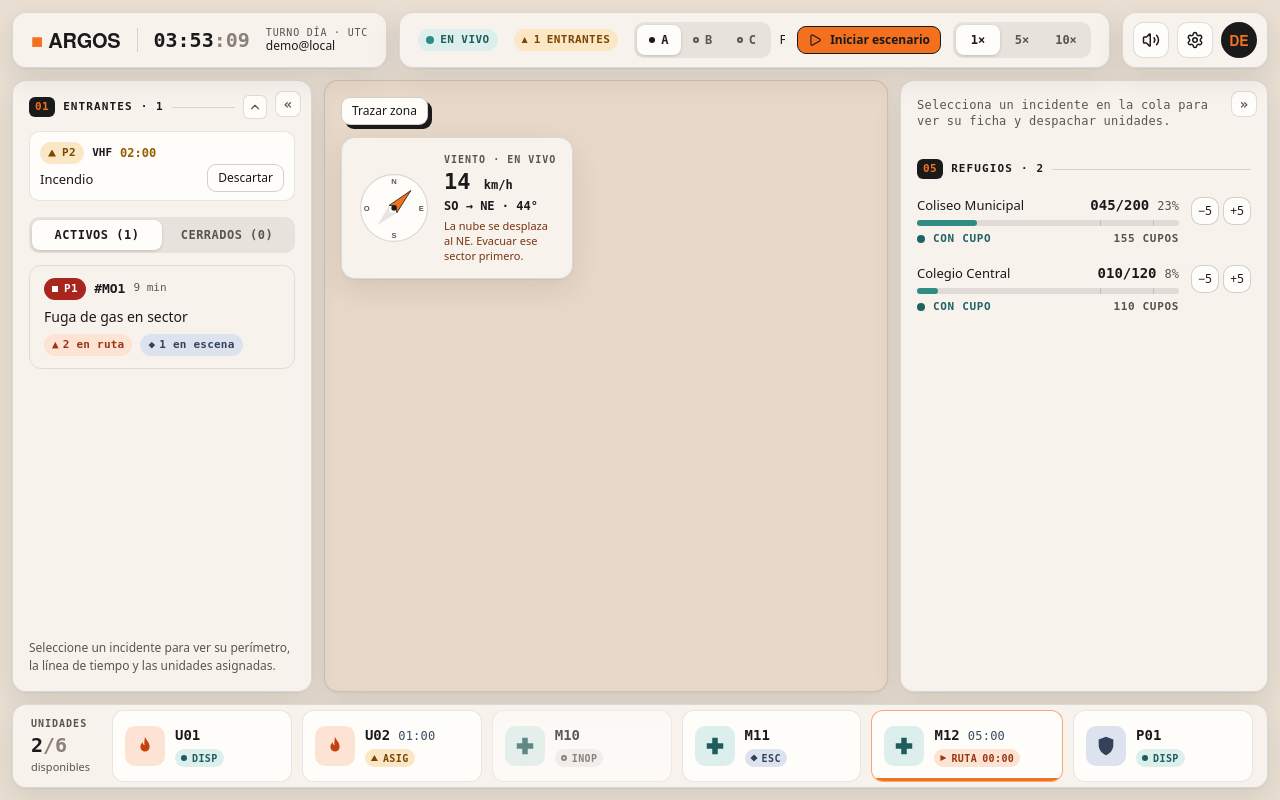
Test case: App: tutorial guiado › desde la hoja de atajos (F1) se puede lanzar el tutorial
Expected: the header named "Barra de estado" is shown, [12, 12, 1268, 68]
Press F1
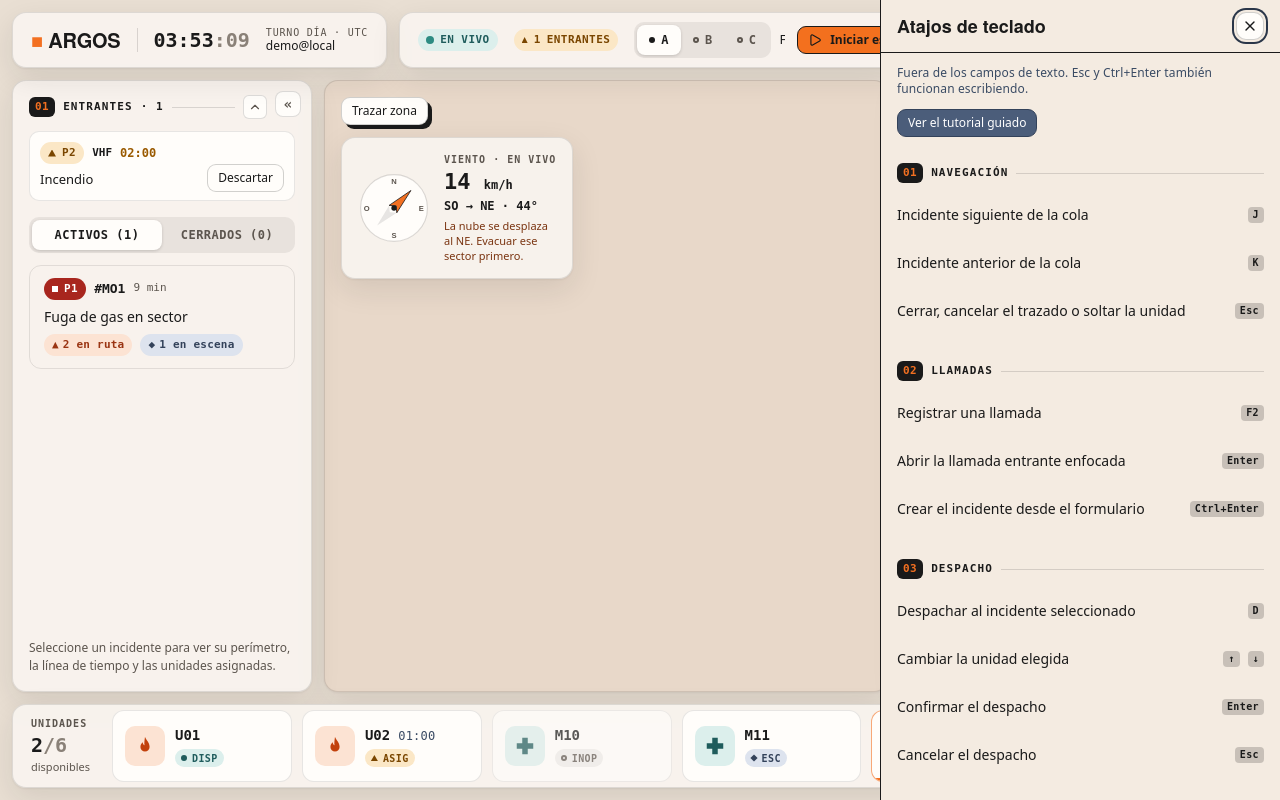
Click the button "Ver el tutorial guiado" at (967, 123), box [897, 109, 1037, 137]
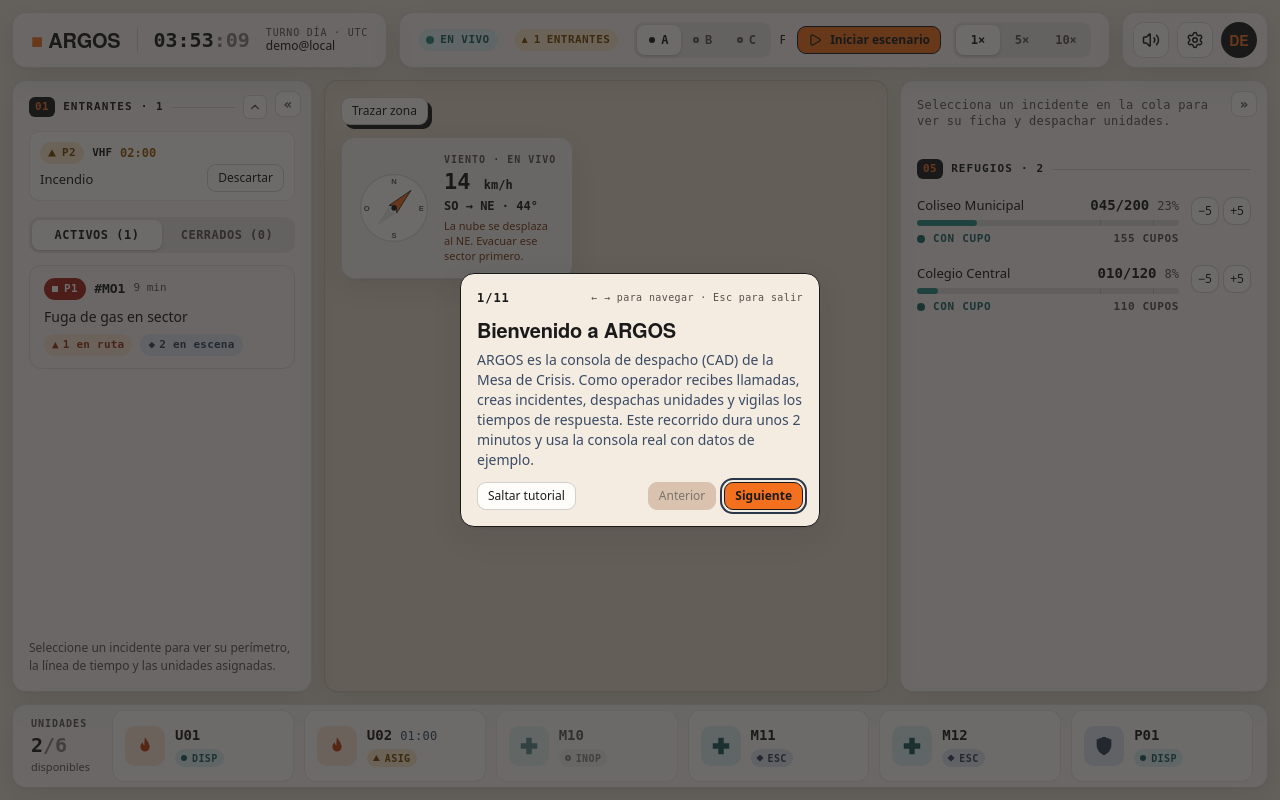
Result: the heading "Atajos de teclado" is gone
